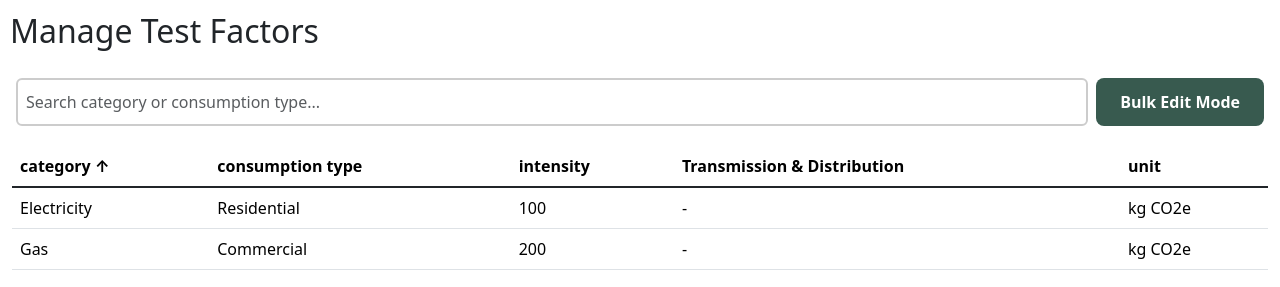
Test: FactorTable Component › filters factors based on search query
This screenshot has width=1280, height=287.
Type "Electricity" into the field with placeholder "Search category or consumption type..." at (552, 102), box x1=16 y1=78 x2=1088 y2=126
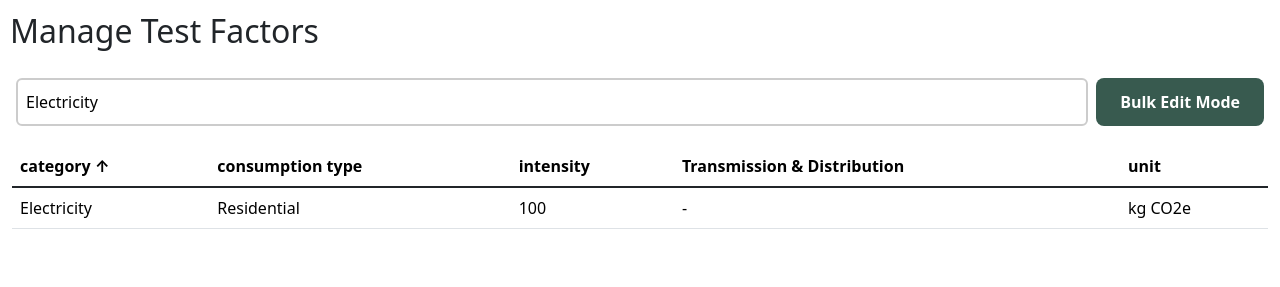
Expected: the text "Electricity" is shown, x1=12 y1=187 x2=209 y2=229
Expected: the text "Gas" is gone
